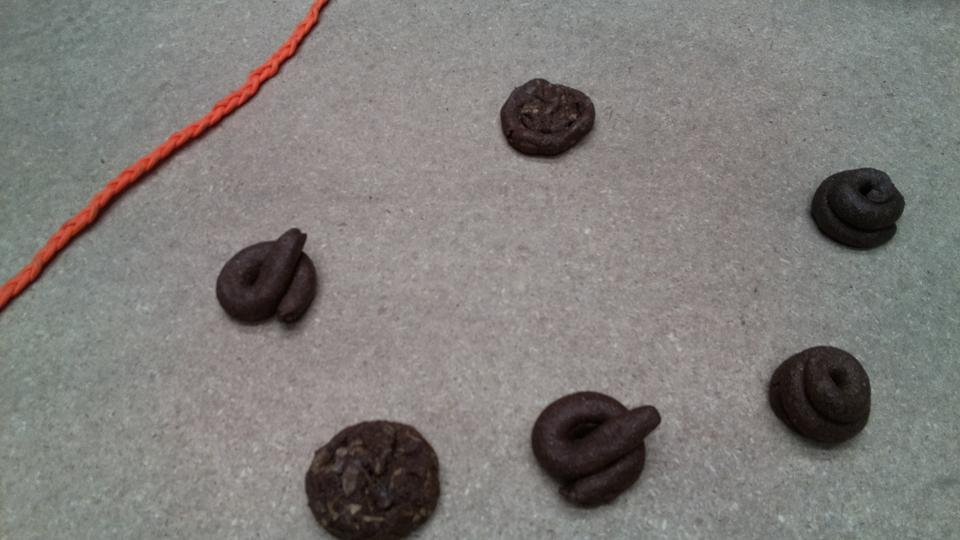poop: (301, 416, 445, 539), (528, 388, 661, 511), (766, 343, 875, 453), (211, 225, 320, 334), (806, 166, 910, 254), (498, 76, 599, 159)
rope: (1, 1, 310, 310)
